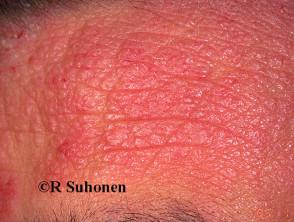Eczema: (48, 126, 93, 174), (92, 107, 139, 152), (203, 35, 240, 87), (236, 118, 272, 160), (112, 37, 156, 71), (265, 142, 294, 191), (162, 35, 196, 74), (0, 49, 36, 85), (172, 81, 211, 114), (67, 41, 104, 74), (62, 100, 98, 132), (266, 42, 294, 82), (204, 5, 240, 35), (0, 25, 29, 62), (0, 170, 18, 222), (48, 63, 75, 96), (136, 0, 185, 15)
